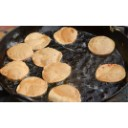poori: (17, 75, 46, 98), (48, 83, 82, 102), (87, 35, 115, 56), (1, 60, 29, 80), (43, 63, 71, 82), (33, 48, 62, 66), (96, 64, 125, 81), (25, 31, 51, 49), (6, 44, 32, 60), (53, 28, 78, 44)
